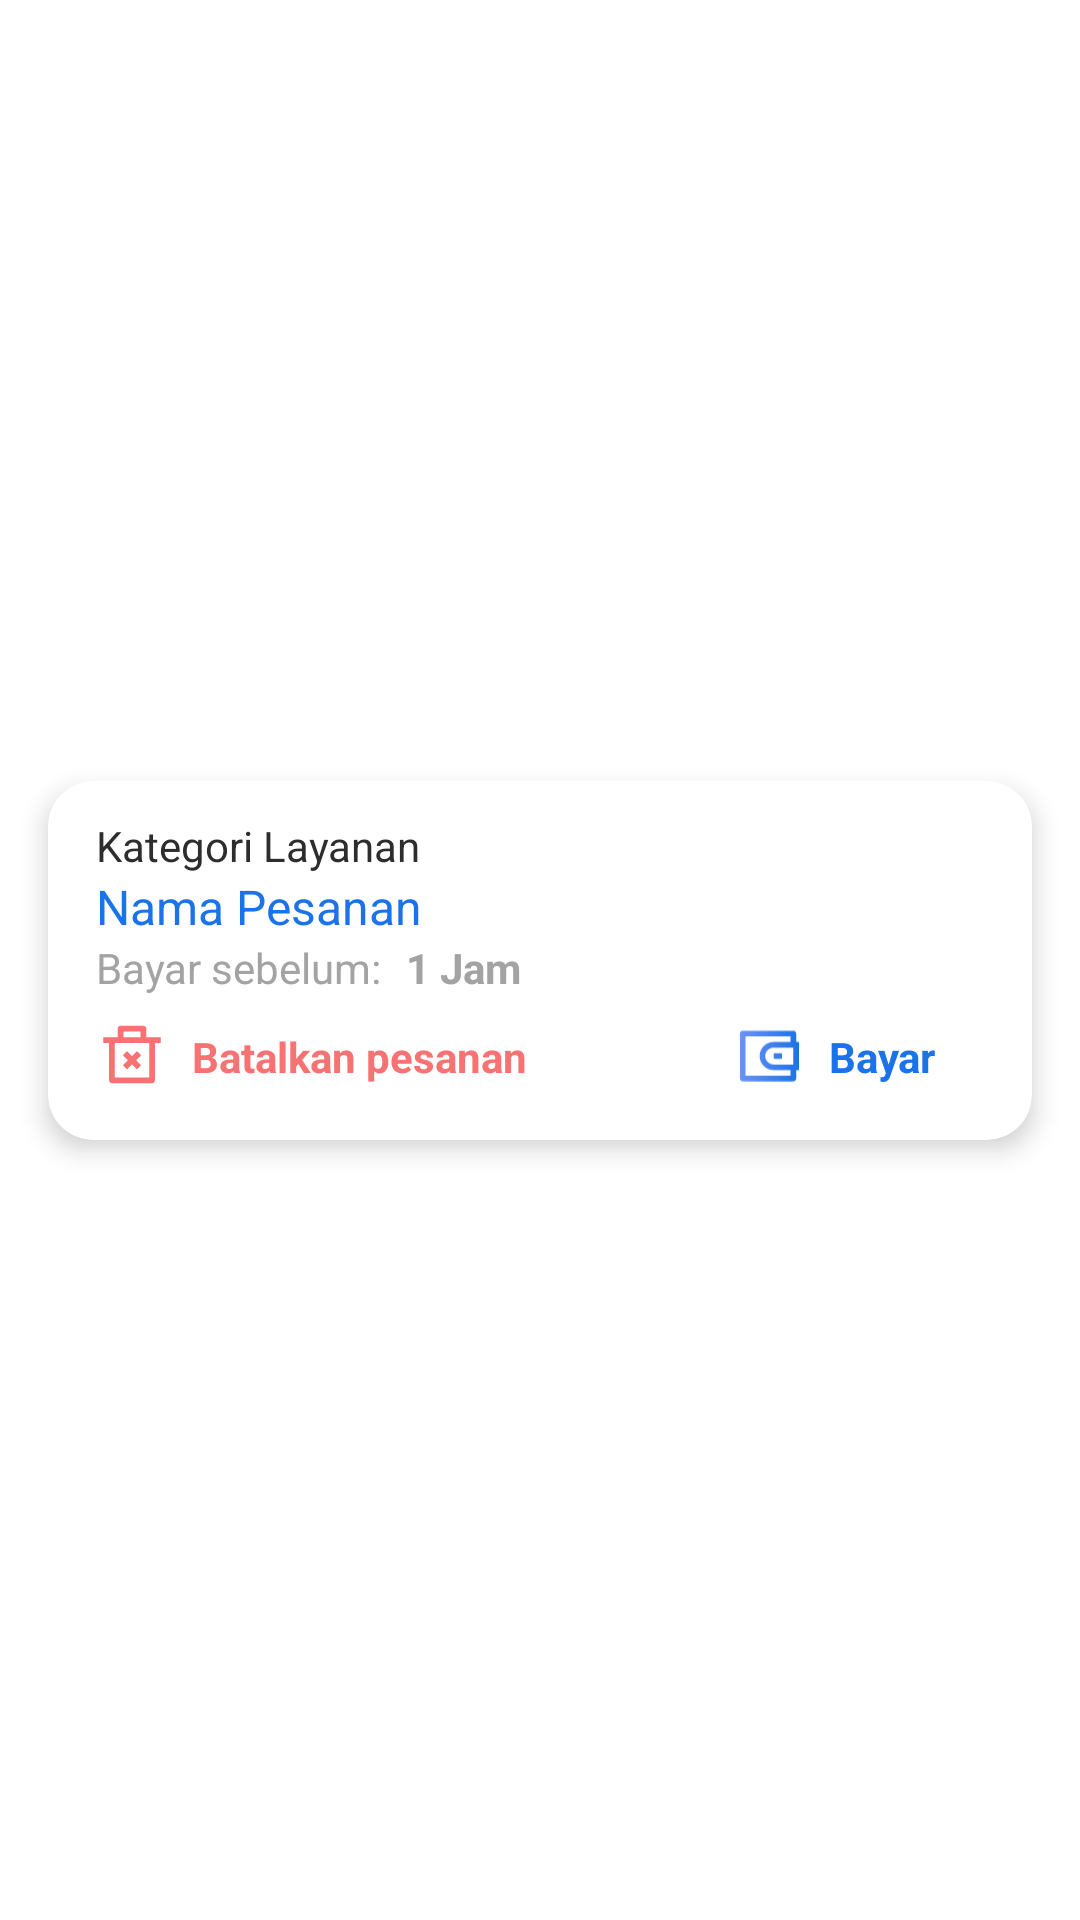

Locate icon controls on the screen. Image size 1080*1920, boxes as (x1, y1, x2, y2).
trash: (103, 1025, 161, 1084)
wallet: (740, 1030, 799, 1082)
